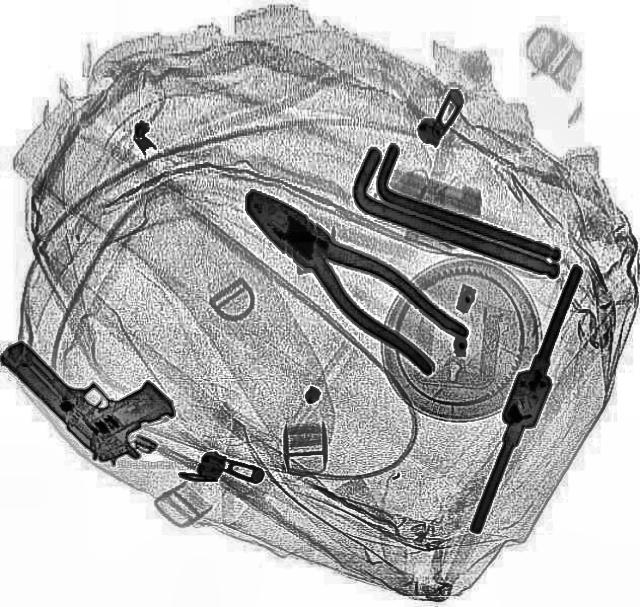Gun: (0, 309, 188, 474)
Pliers: (221, 166, 473, 378)
